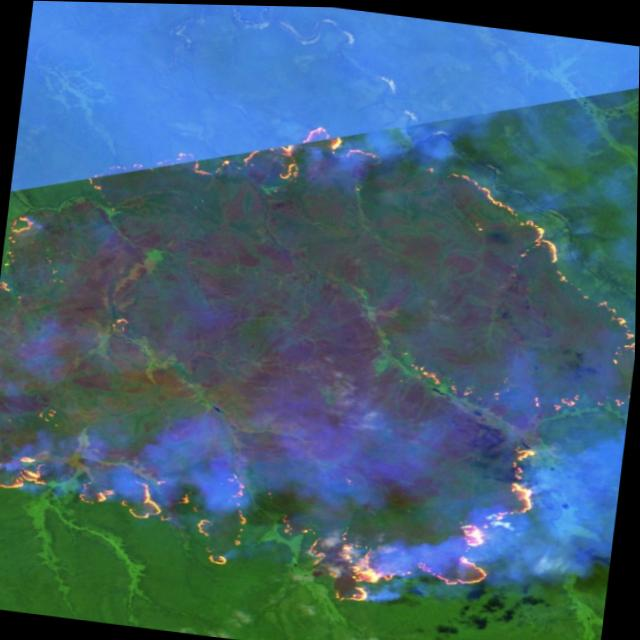fire: (0, 70, 639, 637)
